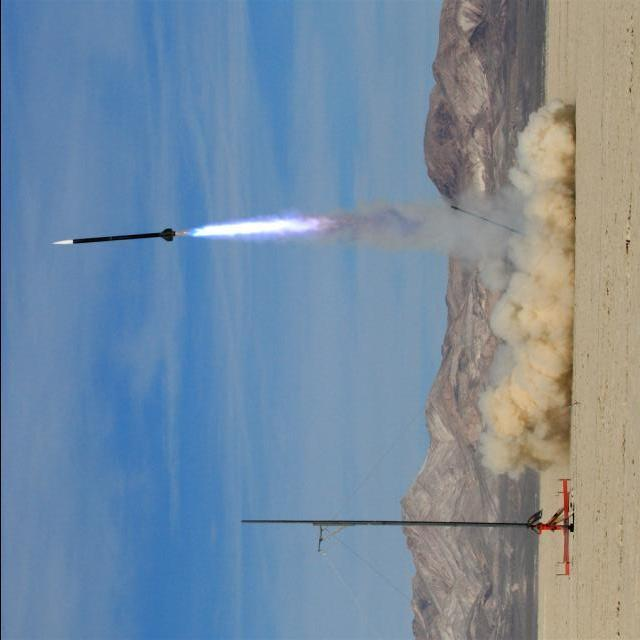Missile: (46, 224, 178, 254)
